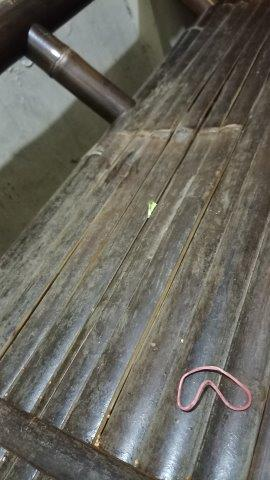karet: (177, 366, 252, 411)
